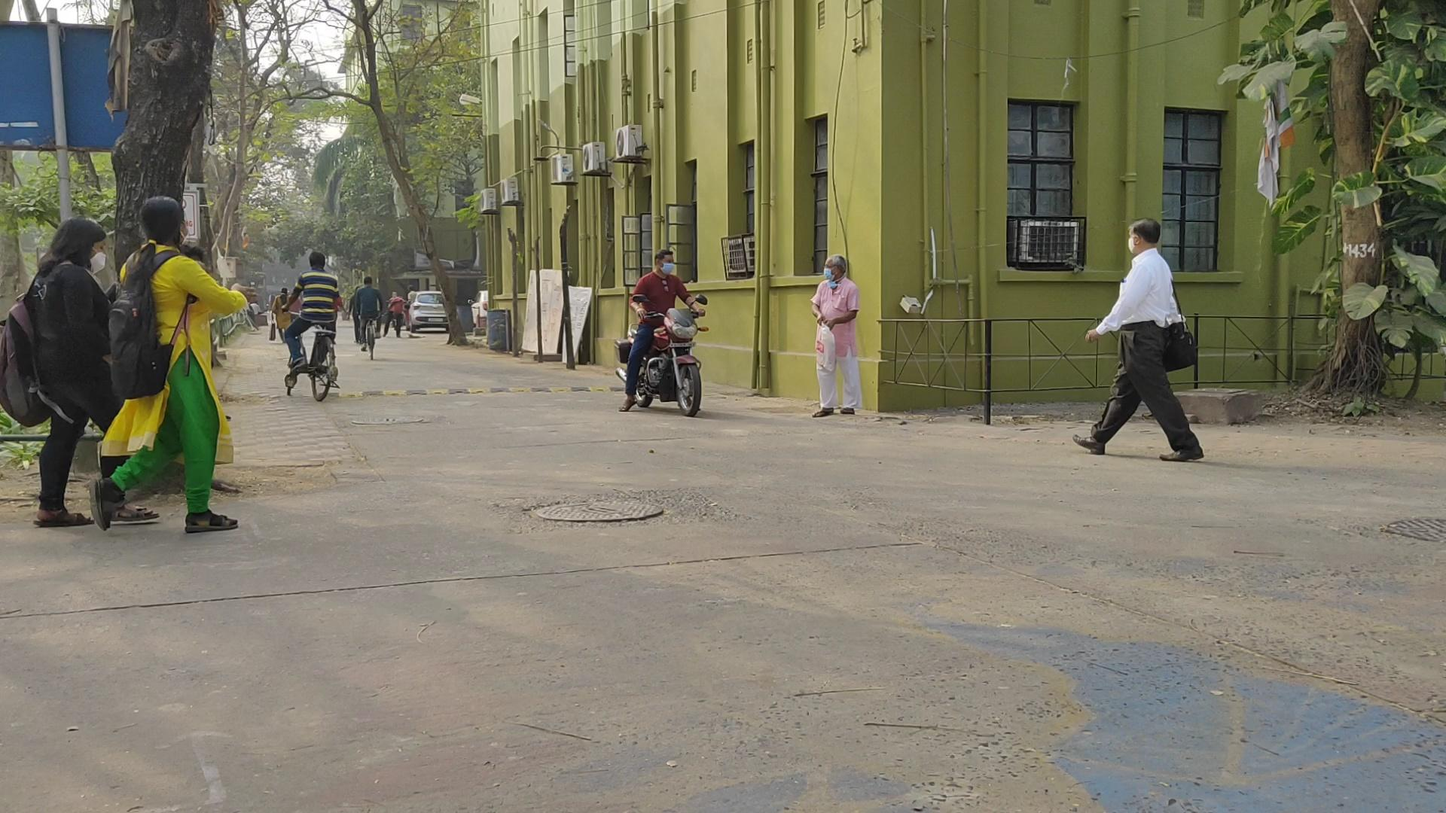bike: (615, 250, 708, 419), (281, 252, 341, 402), (354, 277, 384, 360)
car: (407, 291, 449, 333)
